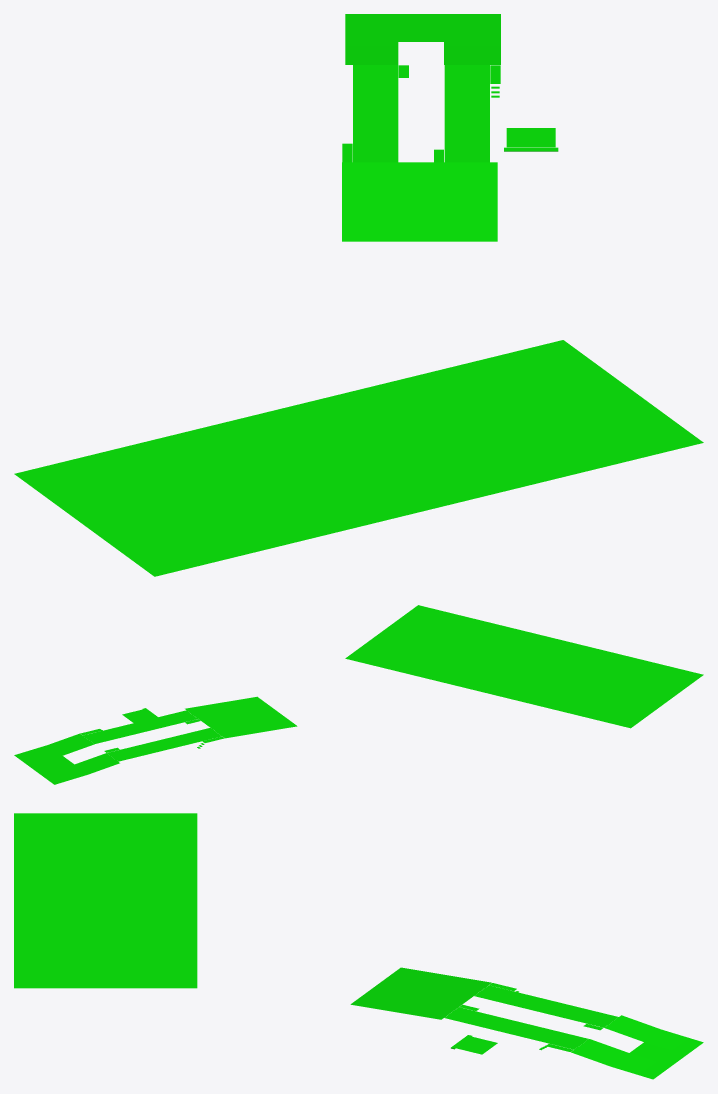
The model's file is Walkables.fbx.
The picture shows the model from 3 angles, top to bottom: view 1: azimuth 30°, elevation 25°; view 2: azimuth 150°, elevation 25°; view 3: azimuth 270°, elevation 25°; orthographic projection. The views are drawn at different scales.
Parts seen in each view (by area): view 1: Walkables, pPlane99, pPlane100, bridge4, bridge5, pCube1631; view 2: Walkables, pPlane99, pPlane100, bridge4, bridge5; view 3: Walkables, pPlane99, pPlane100, bridge4, bridge5, pCube1631.
Part boxes in pixels (x1=…): Walkables: x1=14, y1=340, x2=703, y2=576; pPlane99: x1=342, y1=162, x2=497, y2=241; pPlane100: x1=345, y1=14, x2=500, y2=64; bridge4: x1=444, y1=65, x2=489, y2=162; bridge5: x1=353, y1=65, x2=398, y2=162; pCube1631: x1=506, y1=128, x2=555, y2=147; Walkables: x1=345, y1=605, x2=703, y2=728; pPlane99: x1=185, y1=696, x2=297, y2=738; pPlane100: x1=14, y1=733, x2=119, y2=784; bridge4: x1=83, y1=710, x2=197, y2=744; bridge5: x1=107, y1=728, x2=221, y2=761; Walkables: x1=14, y1=813, x2=197, y2=988; pPlane99: x1=350, y1=967, x2=491, y2=1019; pPlane100: x1=571, y1=1015, x2=703, y2=1079; bridge4: x1=444, y1=1007, x2=588, y2=1049; bridge5: x1=474, y1=985, x2=618, y2=1027; pCube1631: x1=456, y1=1036, x2=497, y2=1054.
Size of the model in its own units: 8328 by 104 by 9123.
